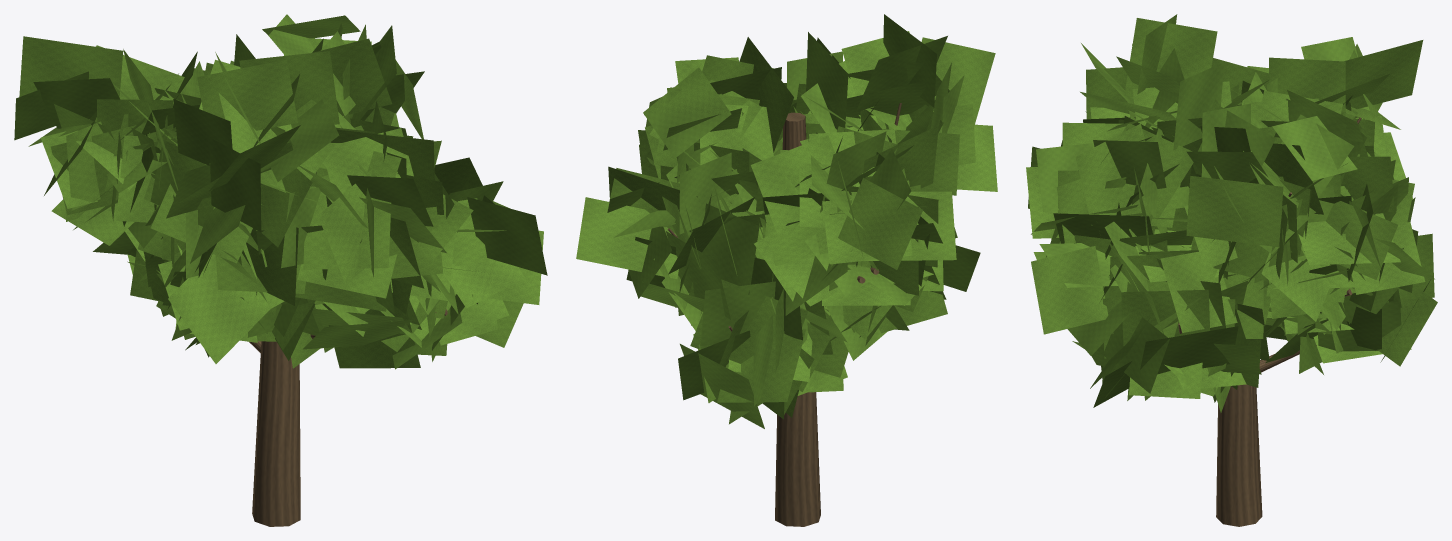
The picture shows the model from 3 angles, left to right: view 1: azimuth 30°, elevation 25°; view 2: azimuth 150°, elevation 25°; view 3: azimuth 270°, elevation 25°; orthographic projection. The views are drawn at different scales.
Parts seen in each view (by area): view 1: oak-leaf, oak-bark; view 2: oak-leaf, oak-bark; view 3: oak-leaf, oak-bark.
Part boxes in pixels (x1,y1,x2,y2): oak-leaf: (14, 14, 547, 369); oak-bark: (249, 309, 447, 526); oak-leaf: (576, 14, 997, 428); oak-bark: (667, 103, 901, 526); oak-leaf: (1026, 14, 1437, 412); oak-bark: (1178, 117, 1361, 526).
Size of the model in its own units: 7.84 by 9.28 by 7.47.
Materials: 2 (2 with a texture image).
